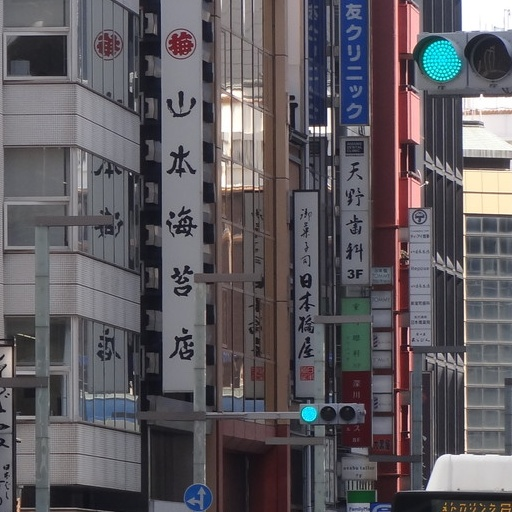Traffic_Signal_Blue: (296, 400, 367, 426)
